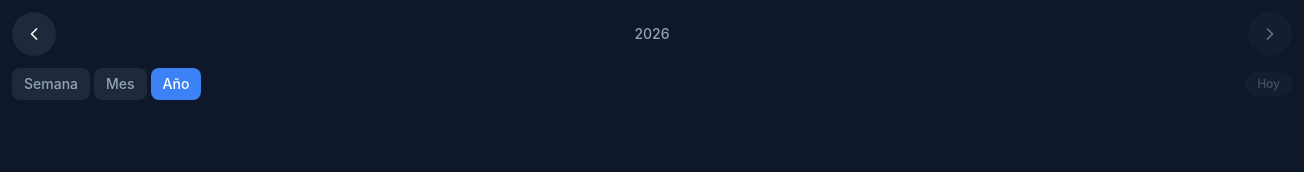
it: PeriodoNavegacion.svelte › navegación (AC-04, AC-05, AC-06, AC-07) › click en Anterior cambia la fecha de referencia para año (AC-06)
This screenshot has width=1304, height=172.
Click the button named "Periodo anterior".
click(34, 34)  # box x1=12 y1=12 x2=56 y2=56
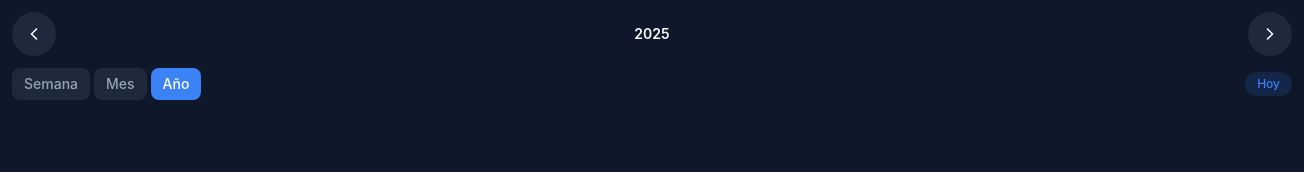
expect the button "2025" is shown: met, box x1=60 y1=16 x2=1244 y2=52
